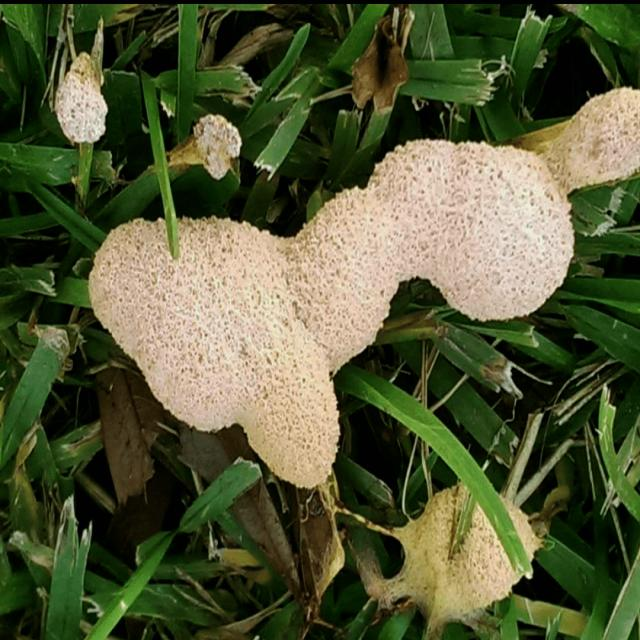Dog_vomit_slime_mold: (42, 43, 640, 508)
